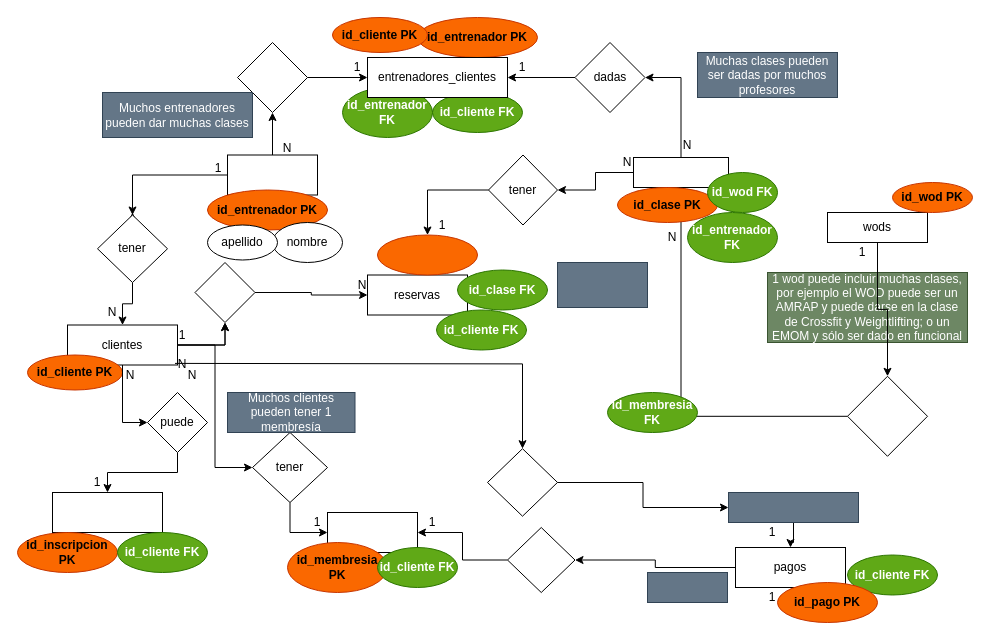
Image size: 990x640. Some labels were removed from this diagram. Each missing label, with the centre of its shape:
"1 pago incluye 1 membresía" belongs at point (687, 587).
"clases" belongs at point (680, 172).
"dar" belongs at point (272, 77).
"entrenadores" belongs at point (272, 174).
"hacer" belongs at point (224, 292).
"id_reserva PK" belongs at point (427, 254).
"incluir" belongs at point (887, 415).
"incluye" belongs at point (540, 559).
"inscripciones" belongs at point (107, 512).
"membresias" belongs at point (372, 532).
"Muchas clases pueden tener 1 reserva" belongs at point (602, 285).
"Muchos clientes pueden realizar 1 pago" belongs at point (793, 507).
"realizar" belongs at point (522, 482).
